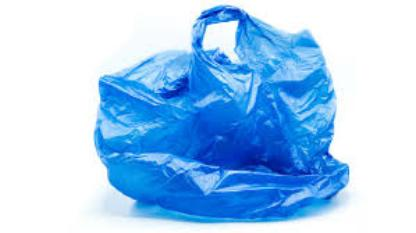Plastic Bag: (95, 6, 347, 220)
